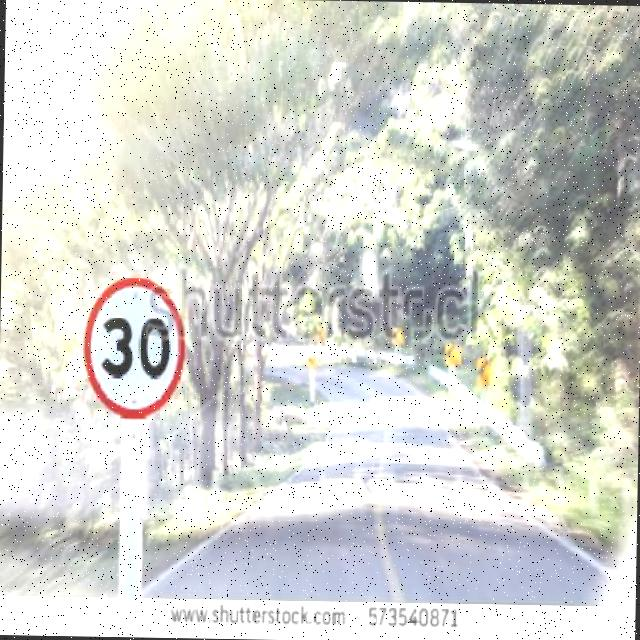Ograniczenie predkosci do 30: (87, 273, 190, 427)
